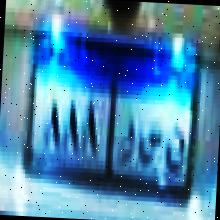8: (81, 102, 102, 164), (40, 97, 61, 155), (61, 100, 80, 158)
laam: (114, 108, 138, 170)
noon: (163, 116, 188, 182)
seen: (137, 121, 163, 172)
